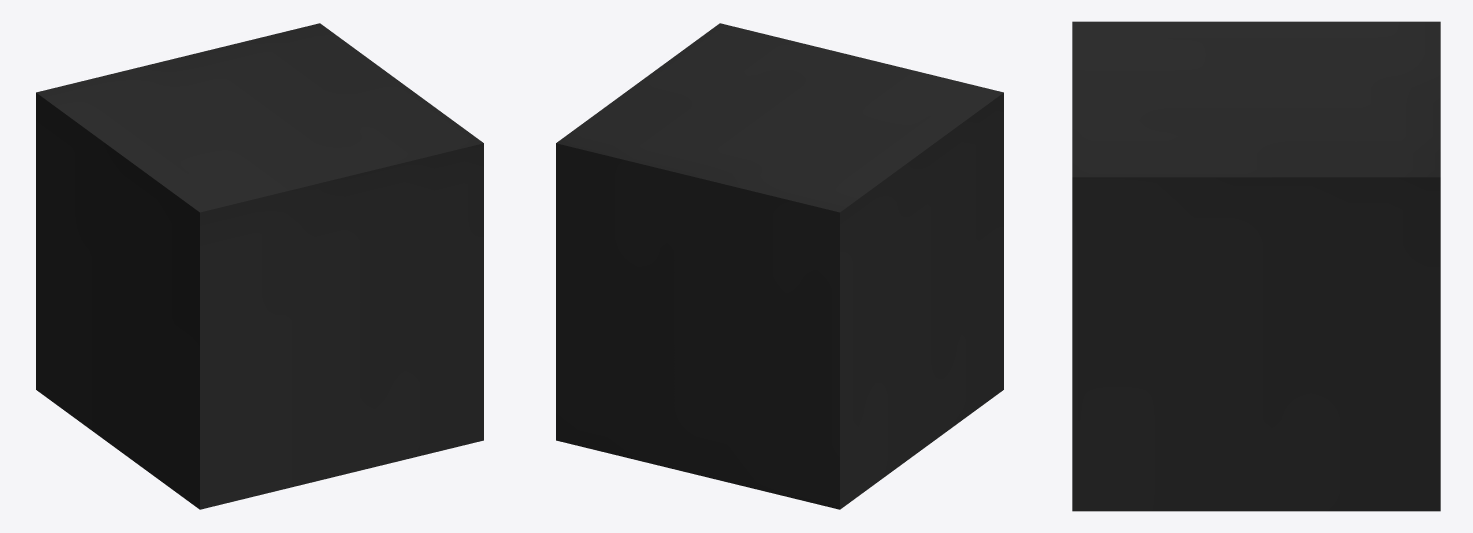
The model's file is obj_interactive_logicgate_lod1.fbx.
3 views of the same model, side by side, from view 1: azimuth 30°, elevation 25°; view 2: azimuth 150°, elevation 25°; view 3: azimuth 270°, elevation 25° (orthographic). The views are drawn at different scales.
Visible parts, largest first — view 1: obj_logicgate_off2; view 2: obj_logicgate_off2; view 3: obj_logicgate_off2.
Part boxes in pixels (left/top/right/bottom): obj_logicgate_off2: left=36, top=23, right=483, bottom=509; obj_logicgate_off2: left=556, top=23, right=1003, bottom=509; obj_logicgate_off2: left=1072, top=21, right=1440, bottom=511.
Size of the model in its own units: 1.1 by 1 by 1.1.
